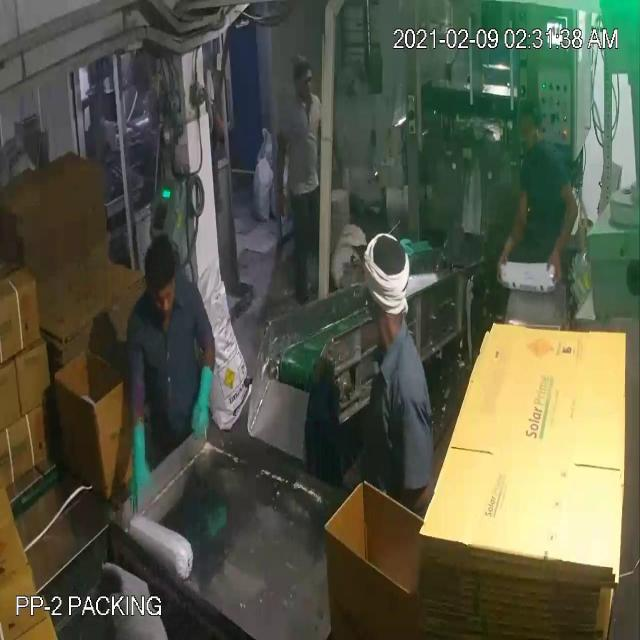Gloves: (34, 100, 563, 462)
